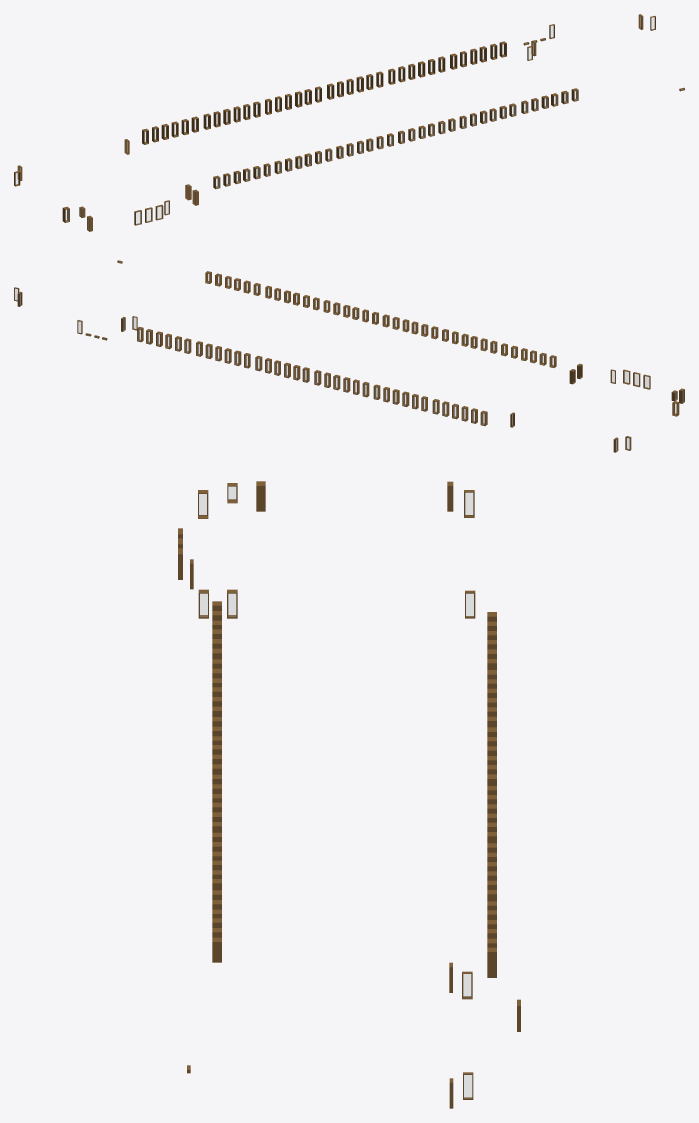
Rendered from insaat_revit_test_erisim.ifc.ifc.ifc_93.0 Matbaa_IfcWindow.dae.
3 renders of one model, top to bottom at view 1: azimuth 30°, elevation 25°; view 2: azimuth 150°, elevation 25°; view 3: azimuth 270°, elevation 25°, orthographic. The views are drawn at different scales.
Size of the model in its own units: 74.92 by 18.05 by 2.2.
